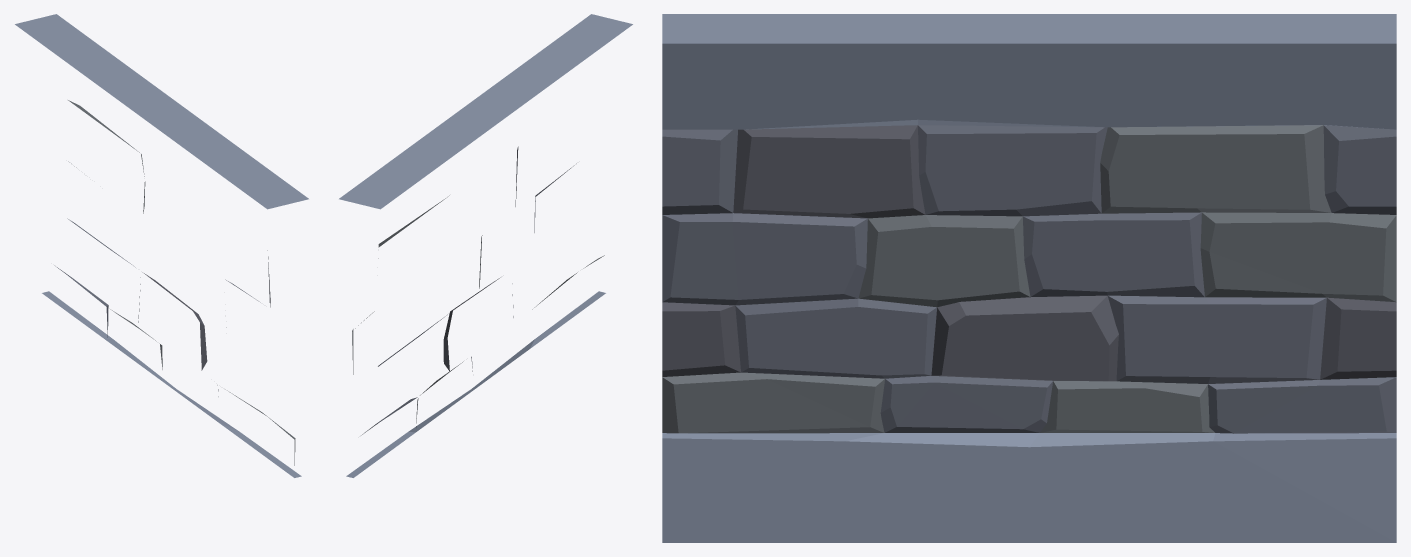
Rendered from Wall.gltf.
3 renders of one model, left to right at view 1: azimuth 30°, elevation 25°; view 2: azimuth 150°, elevation 25°; view 3: azimuth 270°, elevation 25°, orthographic. The views are drawn at different scales.
Visible parts, largest first — view 1: Wall2; view 2: Wall2; view 3: Wall2.
Part boxes in pixels (left/top/right/bottom): Wall2: left=15, top=14, right=308, bottom=477; Wall2: left=339, top=14, right=632, bottom=477; Wall2: left=662, top=14, right=1396, bottom=542.
Bounding box in the file's own units: 0.0961 × 0.75 × 1.
1 material, 1 textured.
